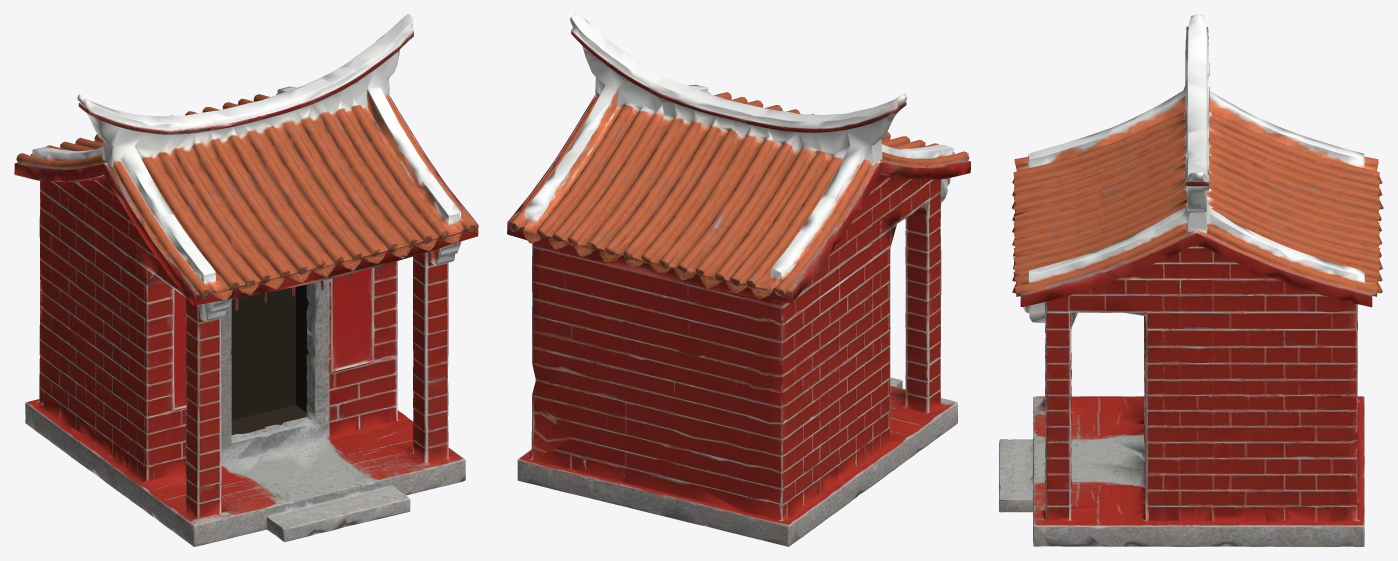
File: corner-shrine.glb
The picture shows the model from 3 angles, left to right: view 1: azimuth 30°, elevation 25°; view 2: azimuth 150°, elevation 25°; view 3: azimuth 270°, elevation 25°; orthographic projection. The views are drawn at different scales.
Parts seen in each view (by area): view 1: AR2_CornerShrine_HERO; view 2: AR2_CornerShrine_HERO; view 3: AR2_CornerShrine_HERO.
Part boxes in pixels (box(x1,y1,x2,y2)): AR2_CornerShrine_HERO: box(14, 14, 478, 546); AR2_CornerShrine_HERO: box(507, 14, 970, 546); AR2_CornerShrine_HERO: box(999, 14, 1383, 546).
Size of the model in its own units: 2.19 by 2.5 by 2.24.
Materials: 5 (1 with a texture image).
